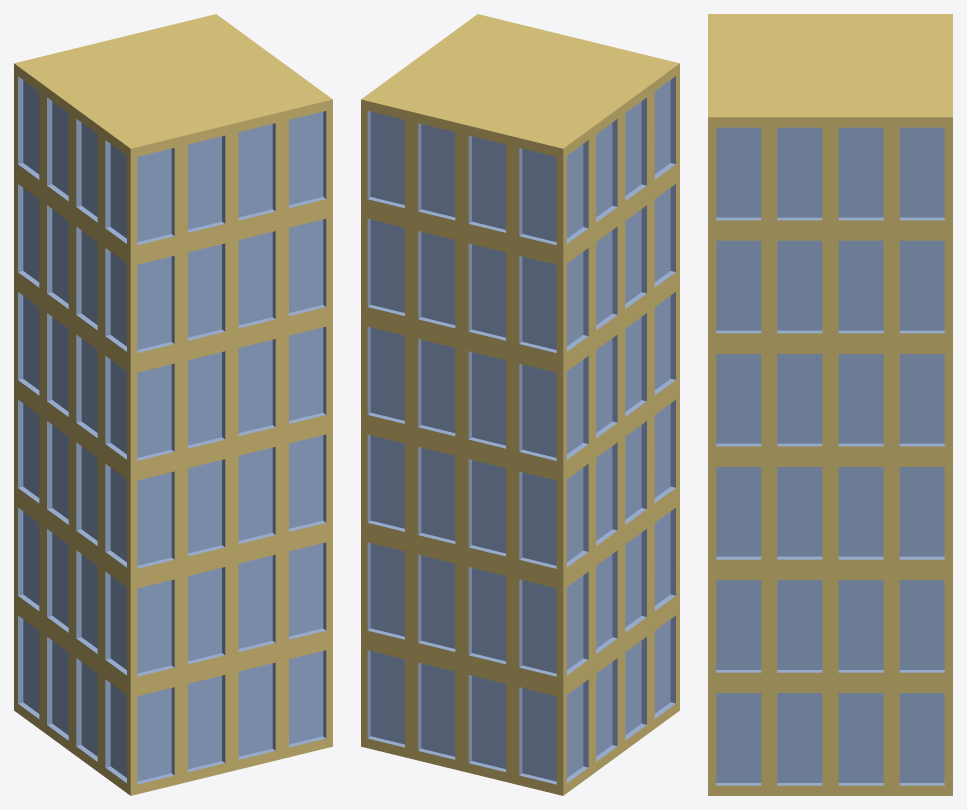
File: bat1.fbx
3 renders of one model, left to right at view 1: azimuth 30°, elevation 25°; view 2: azimuth 150°, elevation 25°; view 3: azimuth 270°, elevation 25°, orthographic. The views are drawn at different scales.
Parts seen in each view (by area): view 1: Cube.002; view 2: Cube.002; view 3: Cube.002.
Part boxes in pixels (box(x1,y1,x2,y2)): Cube.002: box(14, 14, 332, 795); Cube.002: box(361, 14, 679, 795); Cube.002: box(708, 14, 952, 795).
Bounding box in the file's own units: 6997 × 21401 × 6997.
